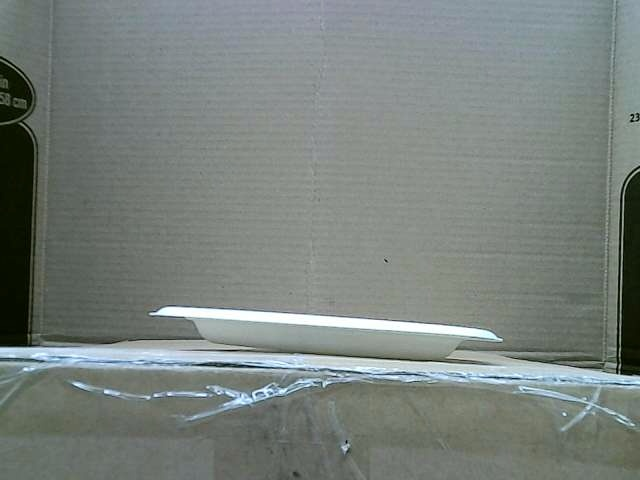Plate: (148, 305, 503, 358)
